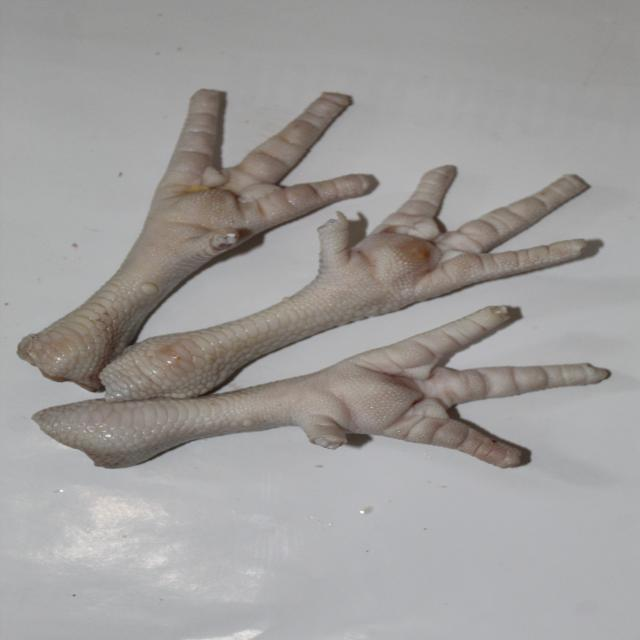chicken: (14, 88, 612, 464), (110, 166, 591, 400), (21, 89, 373, 398), (34, 305, 616, 468)
